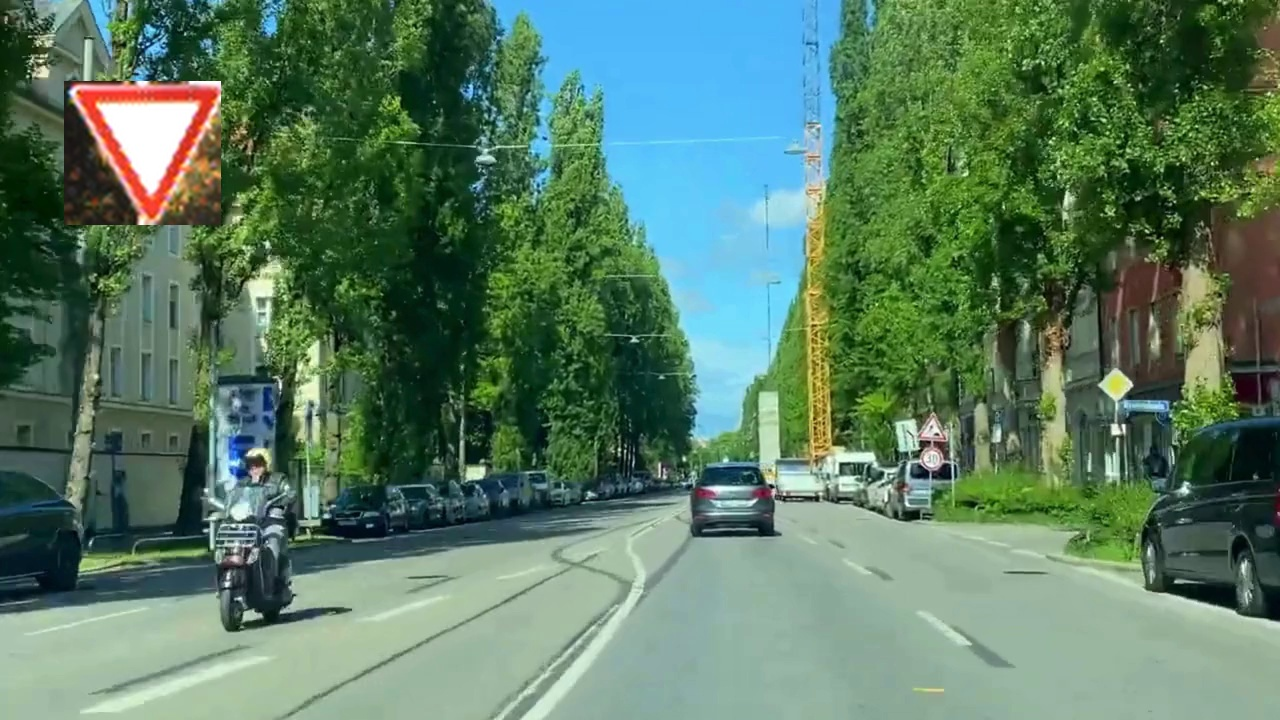Yield: (64, 81, 221, 225)
